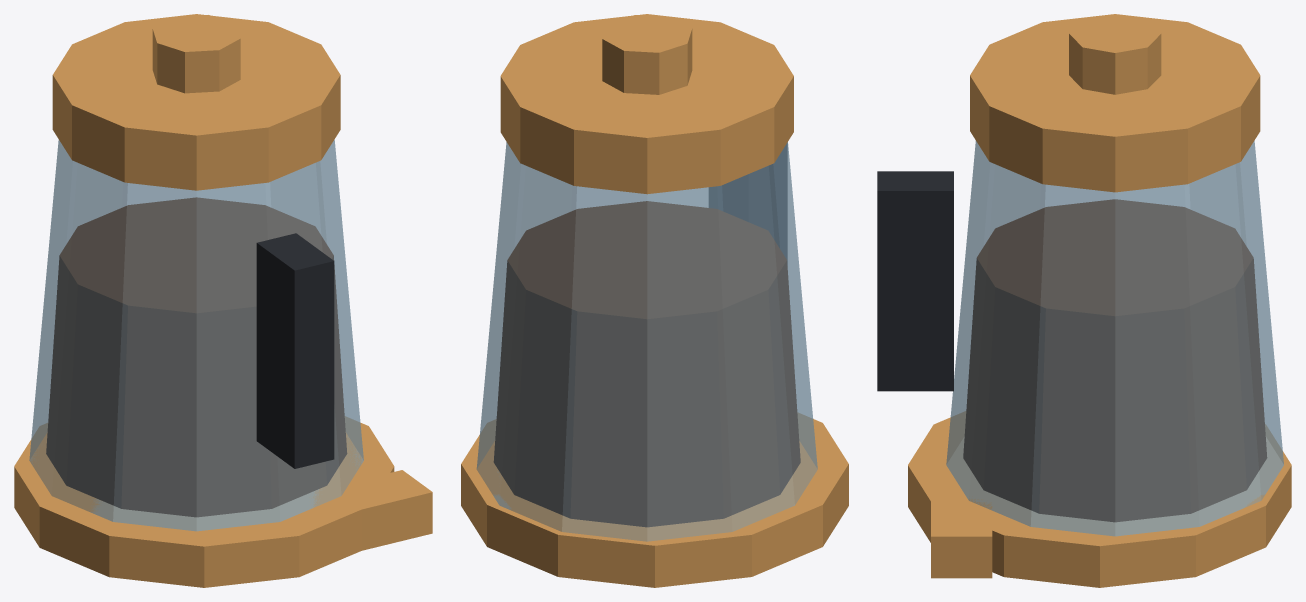
The model's file is coffee_m0_1.glb.
3 views of the same model, side by side, from view 1: azimuth 30°, elevation 25°; view 2: azimuth 150°, elevation 25°; view 3: azimuth 270°, elevation 25° (orthographic).
Visible parts, largest first — view 1: coffee_m0_1_mesh; view 2: coffee_m0_1_mesh; view 3: coffee_m0_1_mesh.
Part boxes in pixels (left/top/right/bottom): coffee_m0_1_mesh: left=14, top=14, right=432, bottom=587; coffee_m0_1_mesh: left=461, top=14, right=848, bottom=587; coffee_m0_1_mesh: left=877, top=14, right=1291, bottom=587.
Bounding box in the file's own units: 0.25 × 0.34 × 0.27.
